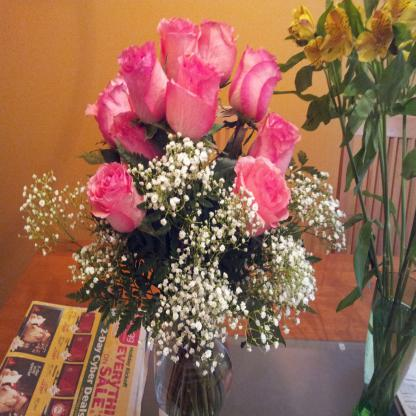vase: (352, 270, 416, 416), (155, 319, 234, 415)
